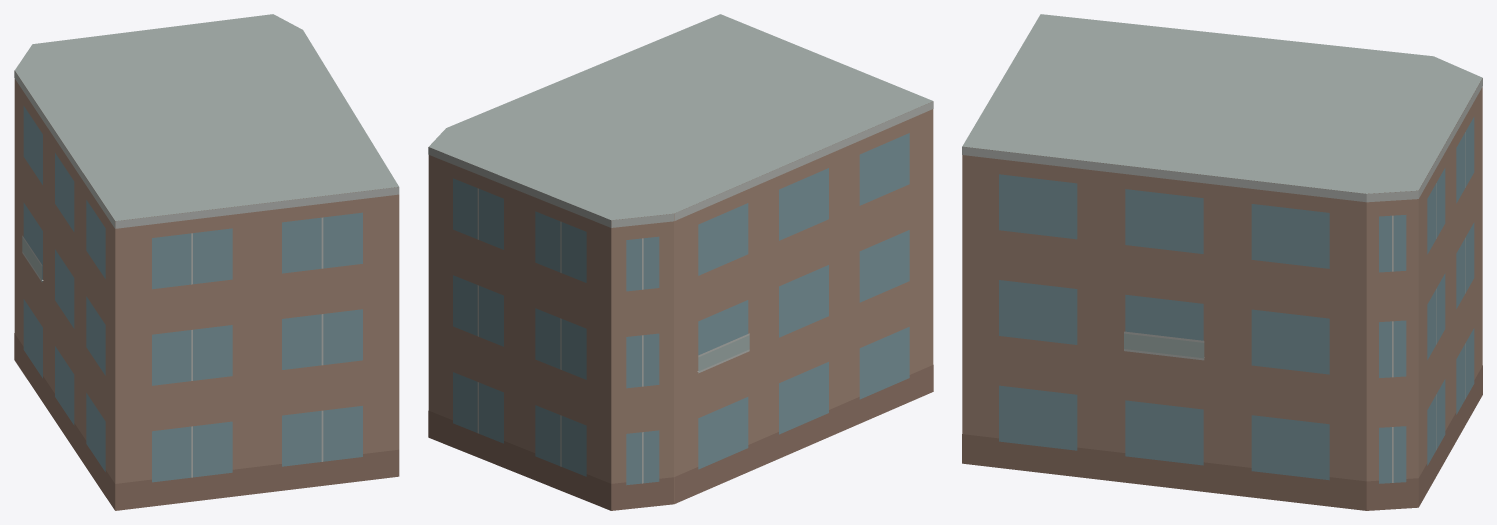
The model's file is survey-upis-33035942.glb.
3 renders of one model, left to right at view 1: azimuth 30°, elevation 25°; view 2: azimuth 150°, elevation 25°; view 3: azimuth 270°, elevation 25°, orthographic. The views are drawn at different scales.
Parts seen in each view (by area): view 1: survey-upis-33035942.tmp; view 2: survey-upis-33035942.tmp; view 3: survey-upis-33035942.tmp.
Part boxes in pixels (box(x1,y1,x2,y2)): survey-upis-33035942.tmp: box(14, 14, 399, 510); survey-upis-33035942.tmp: box(428, 14, 933, 510); survey-upis-33035942.tmp: box(962, 14, 1482, 510).
Bounding box in the file's own units: 11.14 × 9.15 × 13.63.
